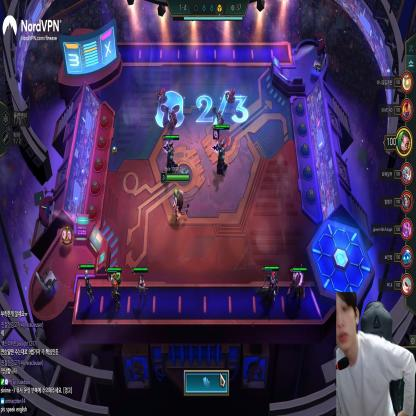streamer: (336, 293, 416, 416)
